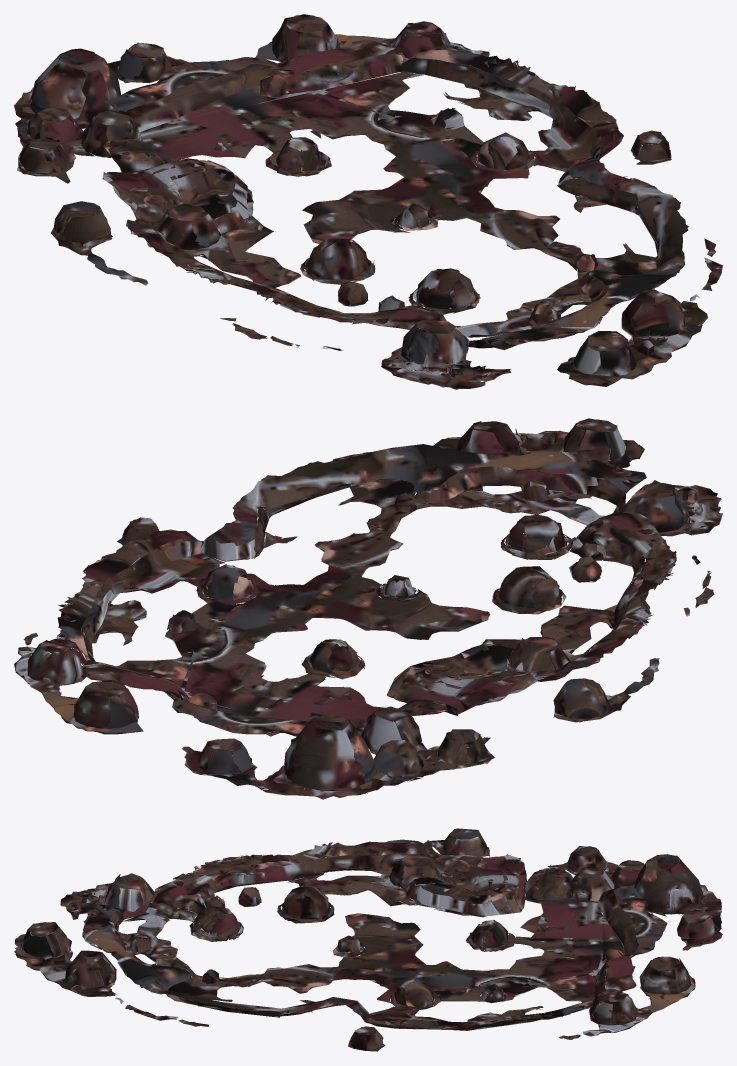
Rendered from Veneno.fbx.
3 renders of one model, top to bottom at view 1: azimuth 30°, elevation 25°; view 2: azimuth 150°, elevation 25°; view 3: azimuth 270°, elevation 25°, orthographic. The views are drawn at different scales.
Parts seen in each view (by area): view 1: Veneno; view 2: Veneno; view 3: Veneno.
Boxes of the visible parts, bbox=[...] form: Veneno: bbox=[14, 14, 722, 389]; Veneno: bbox=[14, 418, 722, 799]; Veneno: bbox=[14, 828, 722, 1051].
Bounding box in the file's own units: 81.76 × 7.73 × 116.
